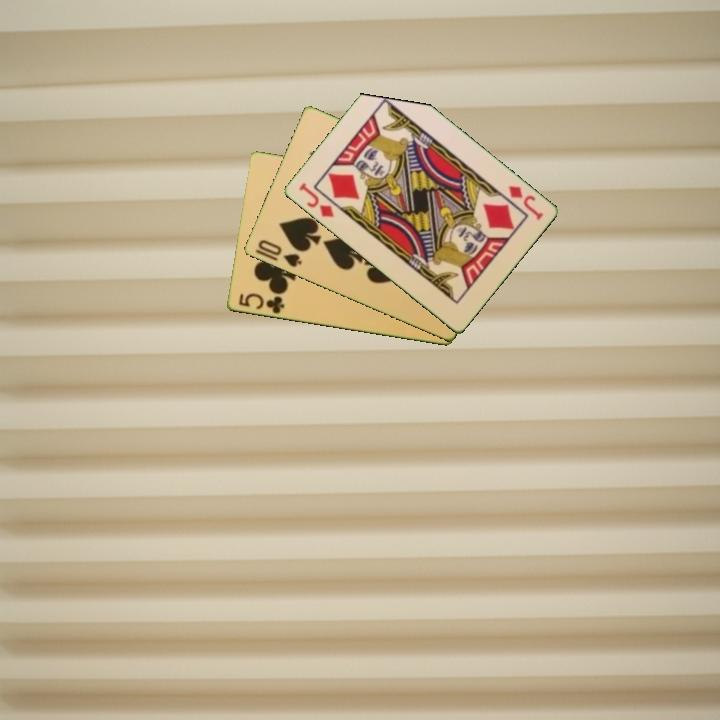10s: (254, 236, 305, 270)
5c: (235, 290, 287, 317)
Jd: (295, 179, 337, 221), (504, 182, 546, 223)
